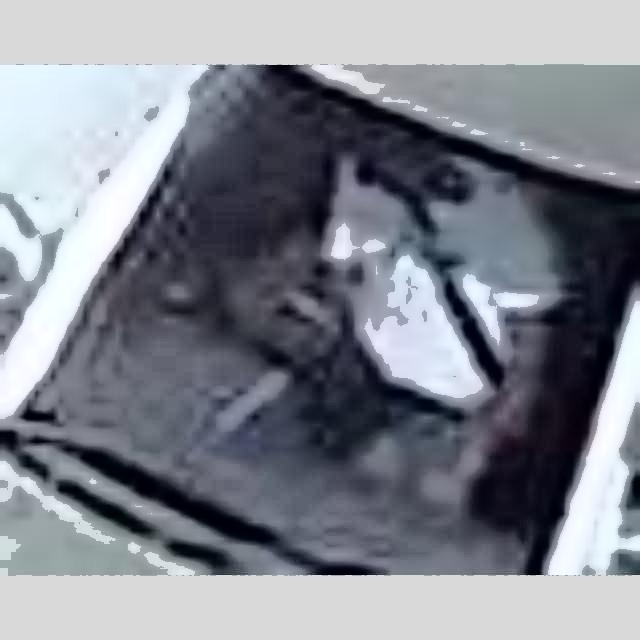pakai: (284, 130, 567, 454)
